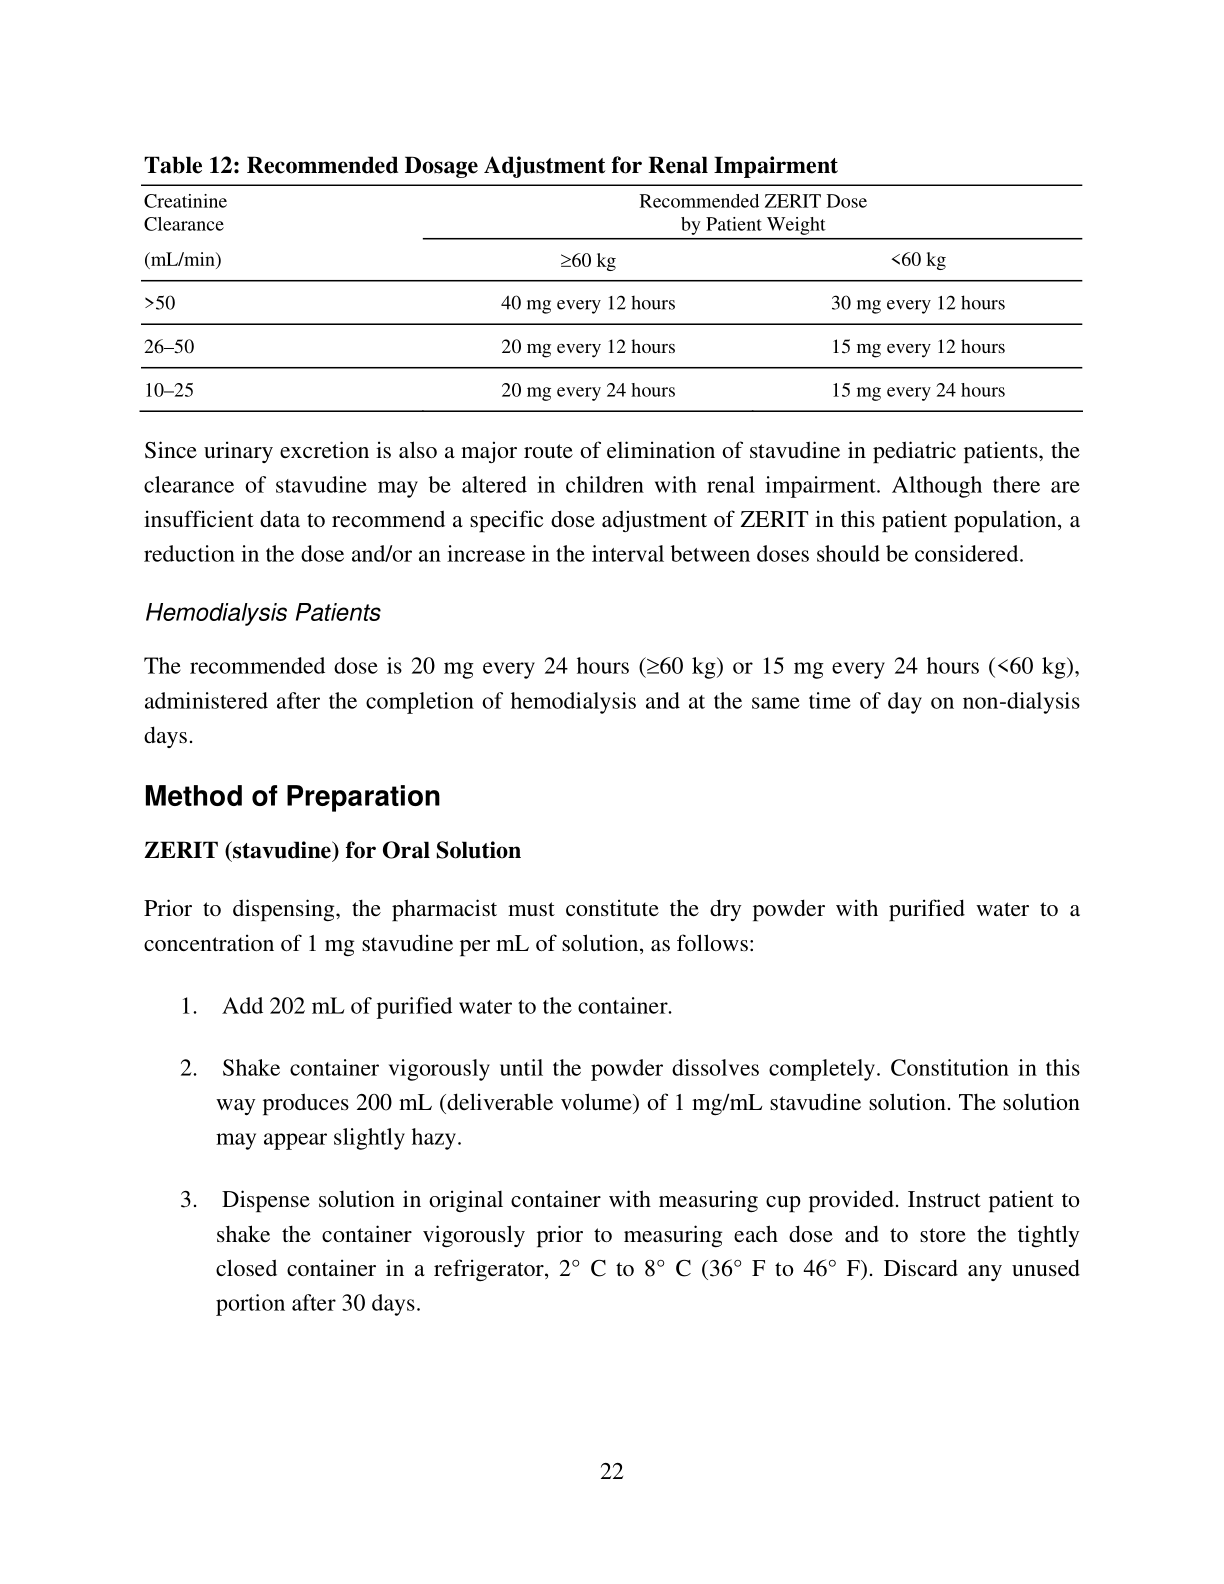partial_lined_merged_cells: (138, 183, 1085, 414)
